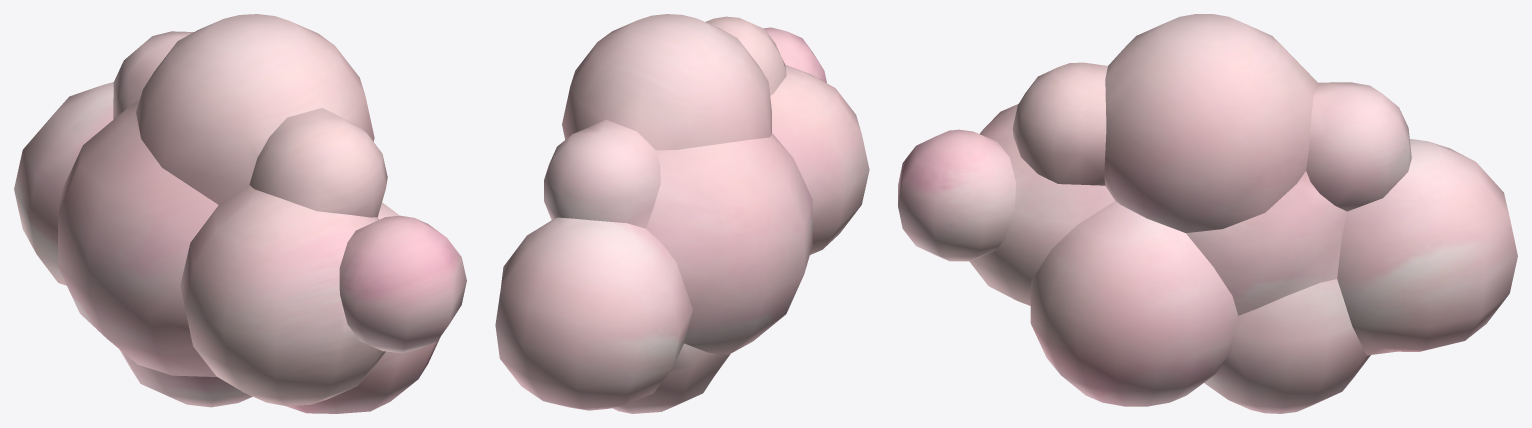
The model's file is DCR0110002.fbx.
The picture shows the model from 3 angles, left to right: view 1: azimuth 30°, elevation 25°; view 2: azimuth 150°, elevation 25°; view 3: azimuth 270°, elevation 25°; orthographic projection. The views are drawn at different scales.
Visible parts, largest first — view 1: smDCR0110002; view 2: smDCR0110002; view 3: smDCR0110002.
Part boxes in pixels (x1,y1,x2,y2): smDCR0110002: (14,14,466,413); smDCR0110002: (495,14,869,413); smDCR0110002: (898,14,1517,413).
Size of the model in its own units: 276 by 351 by 520.
1 material, 1 textured.
